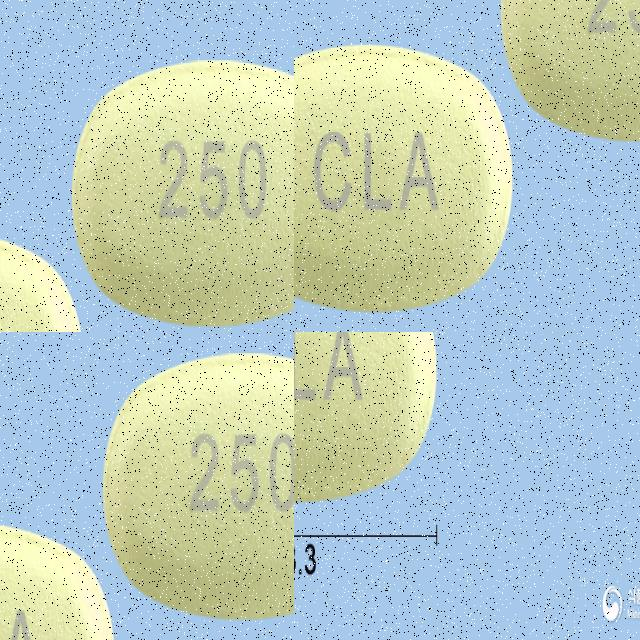A Progen Clarithromycin Tab-500mg: (294, 55, 532, 314), (483, 0, 640, 108)
Ceclacin: (65, 28, 294, 299)
Clar - 500mg: (294, 332, 442, 506)
